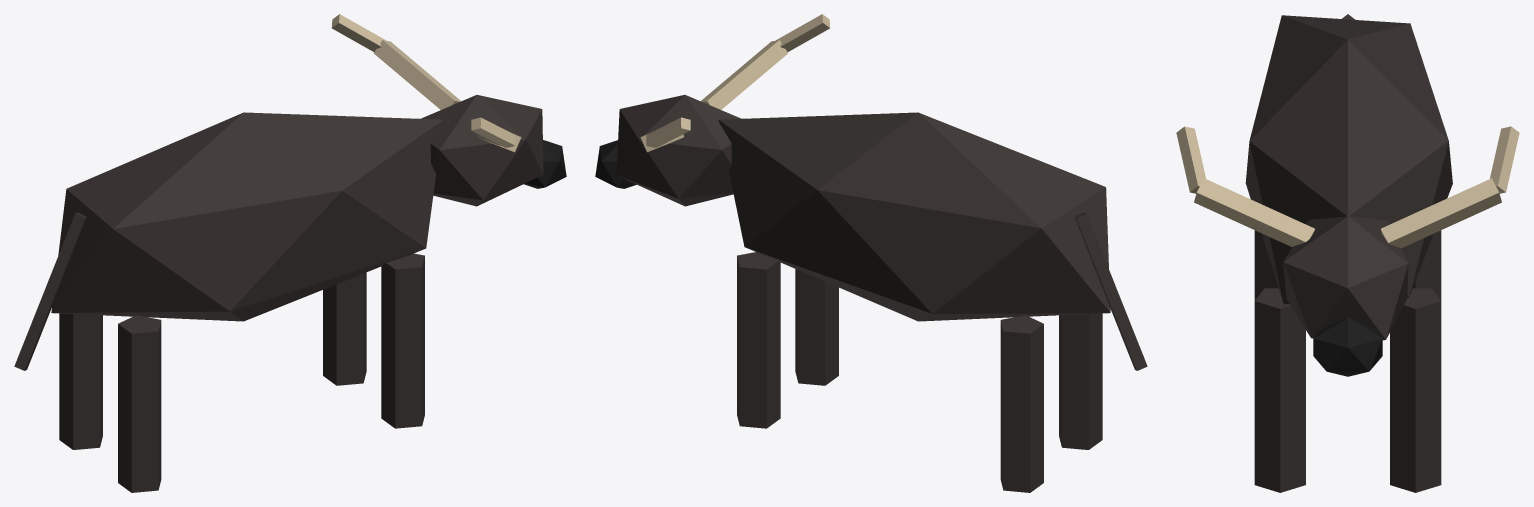
The model's file is vattenbuffel.glb.
The picture shows the model from 3 angles, left to right: view 1: azimuth 30°, elevation 25°; view 2: azimuth 150°, elevation 25°; view 3: azimuth 270°, elevation 25°; orthographic projection. The views are drawn at different scales.
Parts seen in each view (by area): view 1: vattenbuffel; view 2: vattenbuffel; view 3: vattenbuffel.
Part boxes in pixels (box(x1,y1,x2,y2)): vattenbuffel: box(14, 14, 566, 492); vattenbuffel: box(595, 14, 1147, 492); vattenbuffel: box(1176, 14, 1519, 492).
Size of the model in its own units: 2.7 by 1.53 by 1.27.
